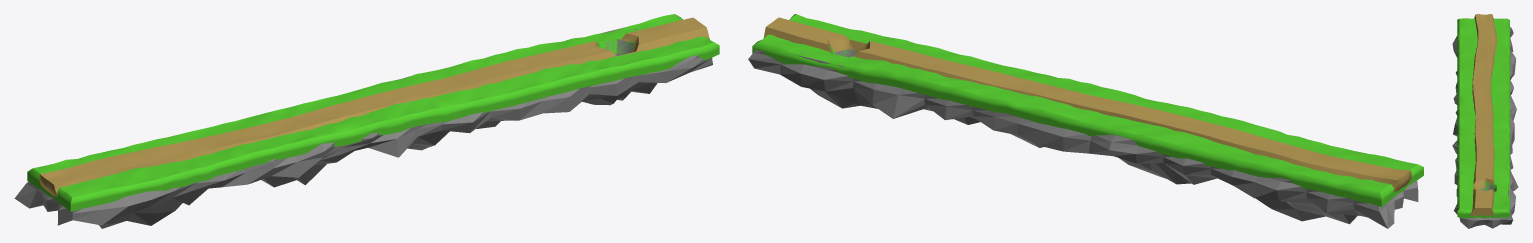
File: IslandwithHole.fbx
3 views of the same model, side by side, from view 1: azimuth 30°, elevation 25°; view 2: azimuth 150°, elevation 25°; view 3: azimuth 270°, elevation 25° (orthographic). The views are drawn at different scales.
Parts seen in each view (by area): view 1: Box027, Box026, Box028; view 2: Box027, Box026, Box028; view 3: Box027, Box028, Box026.
Boxes of the visible parts, x1,y1,x2,y2 form: Box027: [27, 14, 719, 211]; Box026: [14, 27, 712, 228]; Box028: [39, 17, 709, 196]; Box027: [752, 14, 1423, 207]; Box026: [748, 49, 1418, 228]; Box028: [763, 17, 1411, 191]; Box027: [1457, 18, 1509, 218]; Box028: [1470, 14, 1496, 215]; Box026: [1452, 27, 1518, 228].
Size of the model in its own units: 540 by 56.82 by 77.34.
